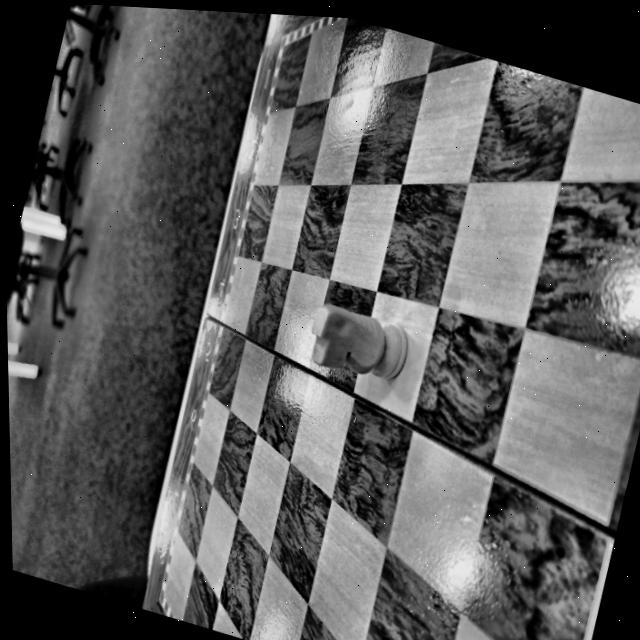white-knight: (310, 304, 408, 380)
